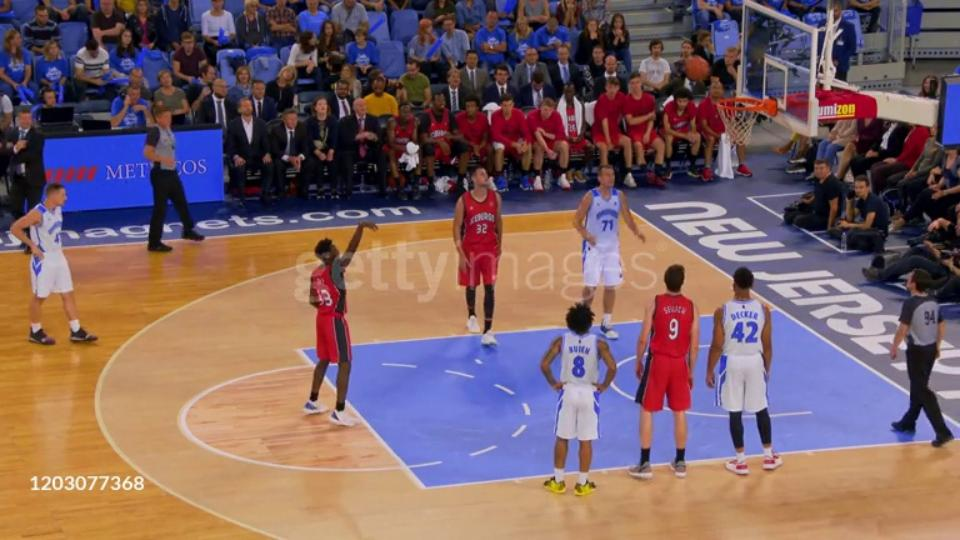hoop: (712, 95, 781, 118)
